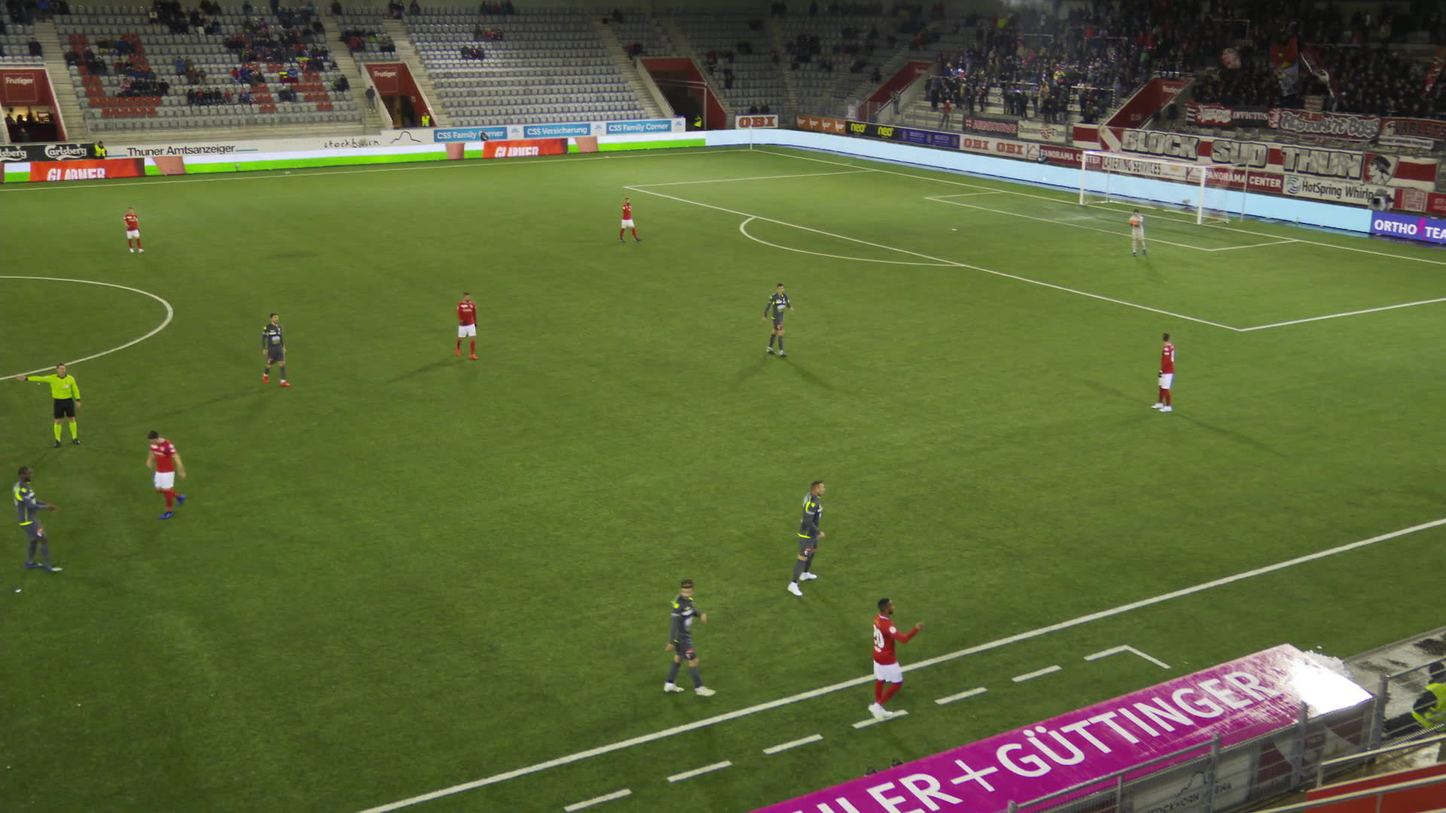player: (866, 593, 926, 721), (659, 577, 715, 697), (11, 464, 63, 572), (787, 481, 831, 597), (145, 431, 187, 519), (759, 283, 796, 358), (259, 311, 290, 386), (1151, 331, 1176, 413), (453, 291, 479, 359), (618, 196, 642, 244), (1126, 207, 1147, 257), (122, 206, 144, 253)
referee: (14, 361, 83, 446)
